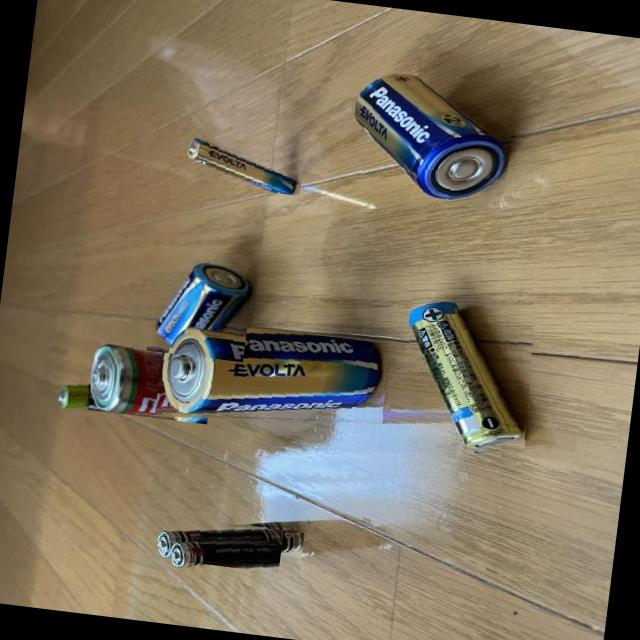Hazard: (154, 315, 392, 442), (336, 62, 518, 210), (393, 296, 541, 463), (146, 247, 255, 361), (88, 330, 216, 422), (165, 515, 304, 583), (153, 507, 284, 572), (179, 133, 305, 195), (49, 376, 120, 418)
